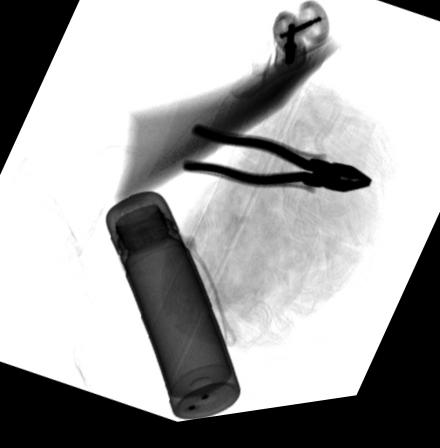Pliers: (179, 129, 371, 205)
